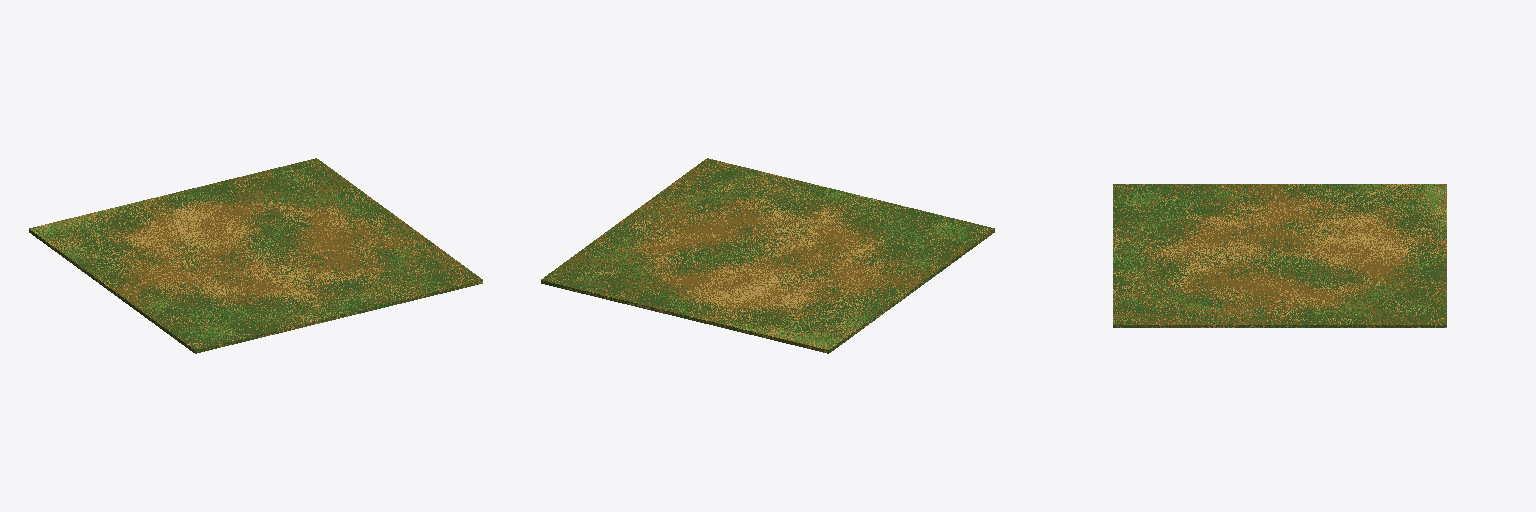
3 renders of one model, left to right at view 1: azimuth 30°, elevation 25°; view 2: azimuth 150°, elevation 25°; view 3: azimuth 270°, elevation 25°, orthographic.
Parts seen in each view (by area): view 1: mesh01; view 2: mesh01; view 3: mesh01.
Part boxes in pixels (left/top/right/bottom): mesh01: left=29, top=158, right=482, bottom=353; mesh01: left=541, top=158, right=994, bottom=353; mesh01: left=1113, top=184, right=1446, bottom=327.
Size of the model in its own units: 682 by 7.9 by 682.
Materials: 1 (1 with a texture image).